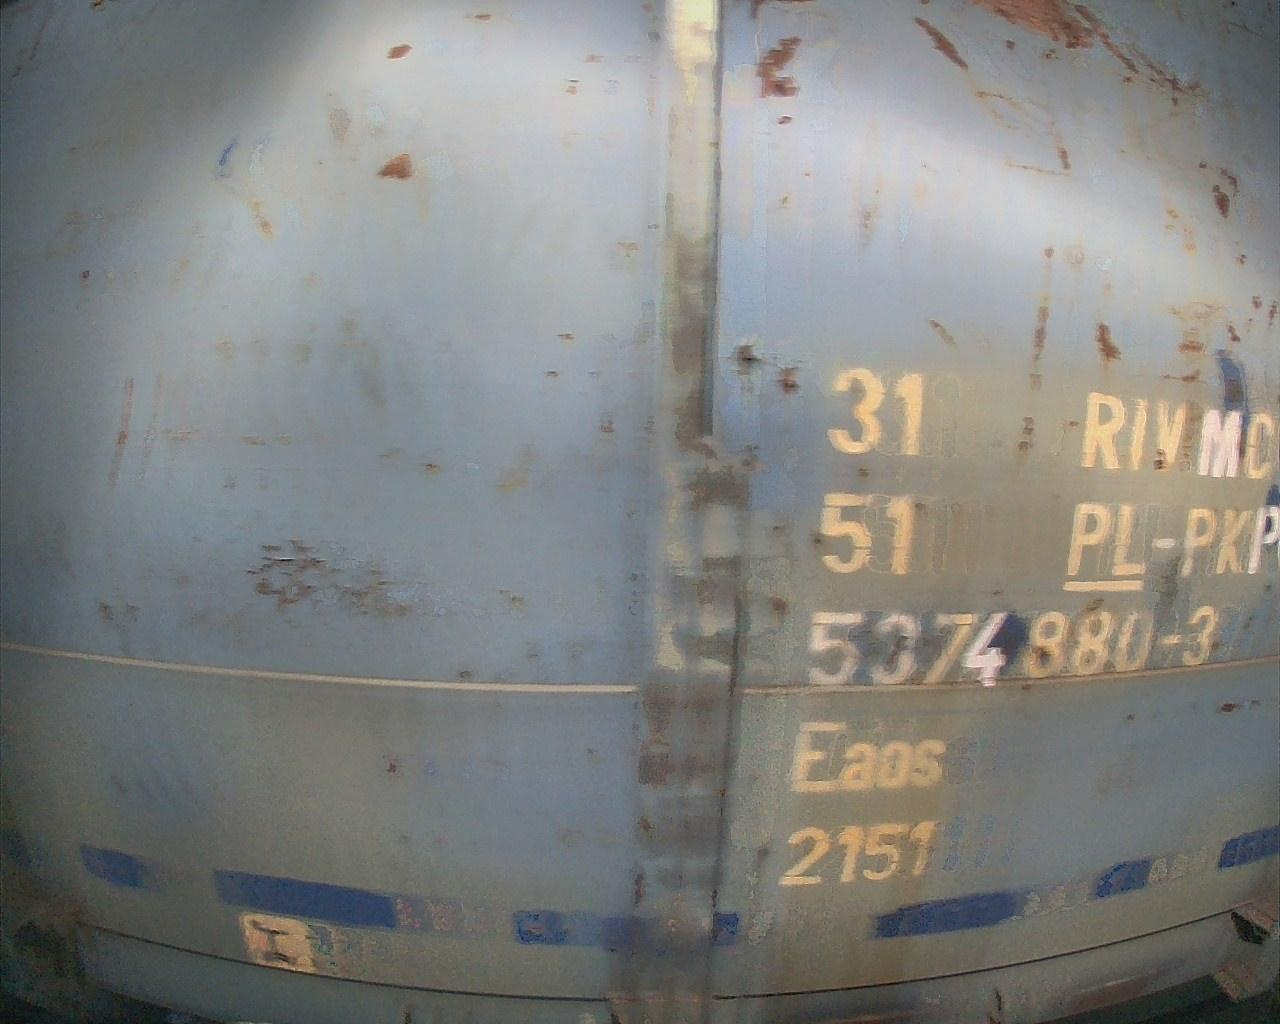UIC: (771, 355, 1280, 911)
